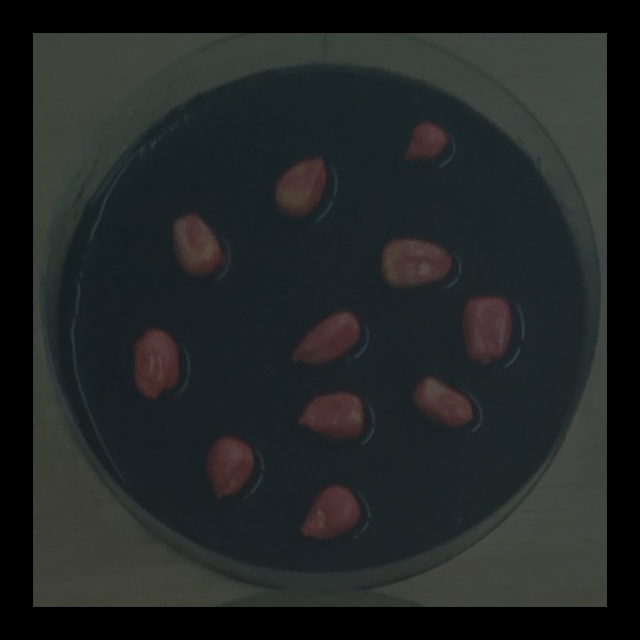Zea mays: (281, 303, 365, 373), (372, 233, 459, 297), (293, 481, 367, 549), (455, 291, 516, 373), (289, 387, 372, 447), (405, 372, 479, 437), (163, 209, 227, 284), (128, 324, 186, 406), (267, 153, 333, 225), (199, 431, 259, 509), (397, 117, 454, 171)
